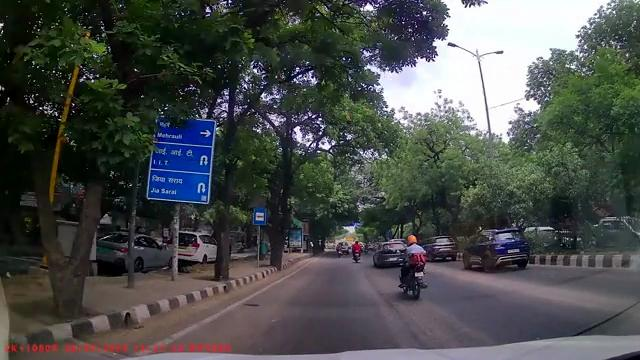motorcycle_with_helmet: (397, 234, 428, 300)
